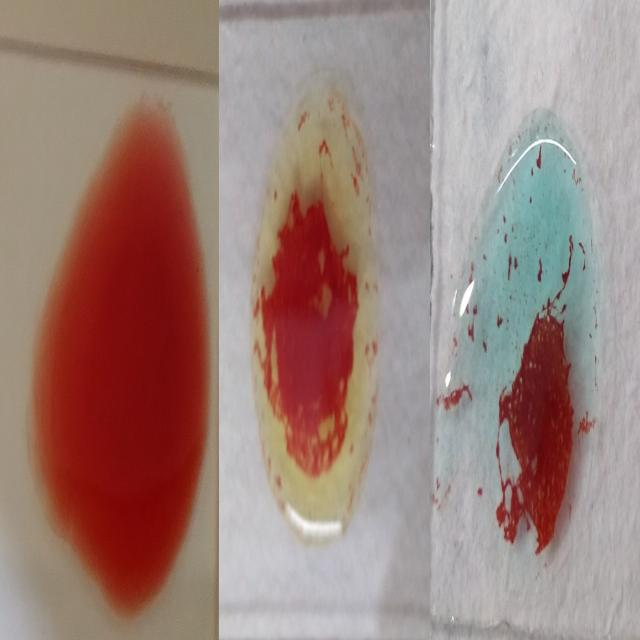A: (448, 113, 598, 596)
B: (253, 79, 372, 544)
